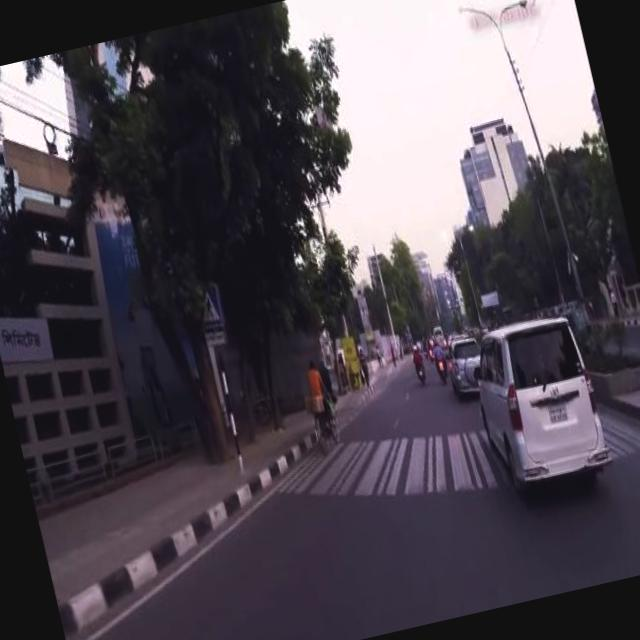bus: (430, 322, 442, 338)
car: (440, 331, 488, 395)
motorcycle: (412, 354, 426, 380), (432, 352, 446, 378), (424, 344, 432, 354)
truck: (461, 304, 611, 492)
